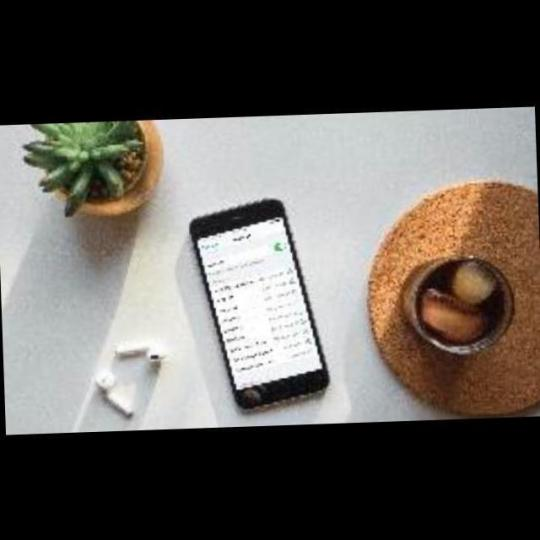phone: (166, 196, 344, 414)
